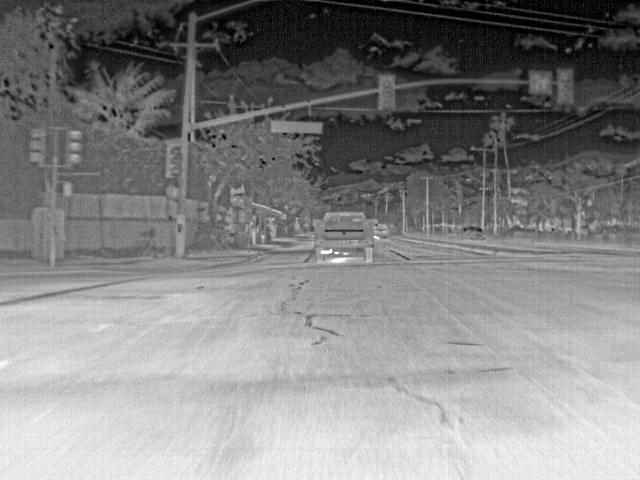car: (312, 211, 374, 263), (463, 226, 488, 240), (372, 222, 388, 241)
person: (251, 224, 264, 243)
